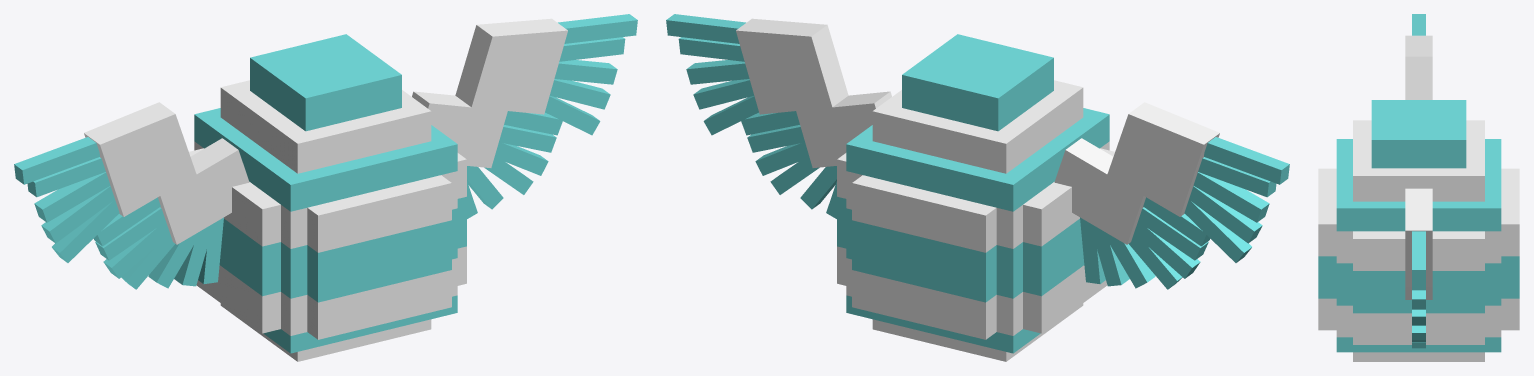
Rendered from 40.Ice Dragon.fbx.
The picture shows the model from 3 angles, left to right: view 1: azimuth 30°, elevation 25°; view 2: azimuth 150°, elevation 25°; view 3: azimuth 270°, elevation 25°; orthographic projection. The views are drawn at different scales.
Visible parts, largest first — view 1: Ice_Dragon; view 2: Ice_Dragon; view 3: Ice_Dragon.
Boxes of the visible parts, x1=… form: Ice_Dragon: x1=14, y1=14, x2=637, y2=361; Ice_Dragon: x1=666, y1=14, x2=1289, y2=361; Ice_Dragon: x1=1318, y1=14, x2=1519, y2=361.
Size of the model in its own units: 8.69 by 3.39 by 2.89.
